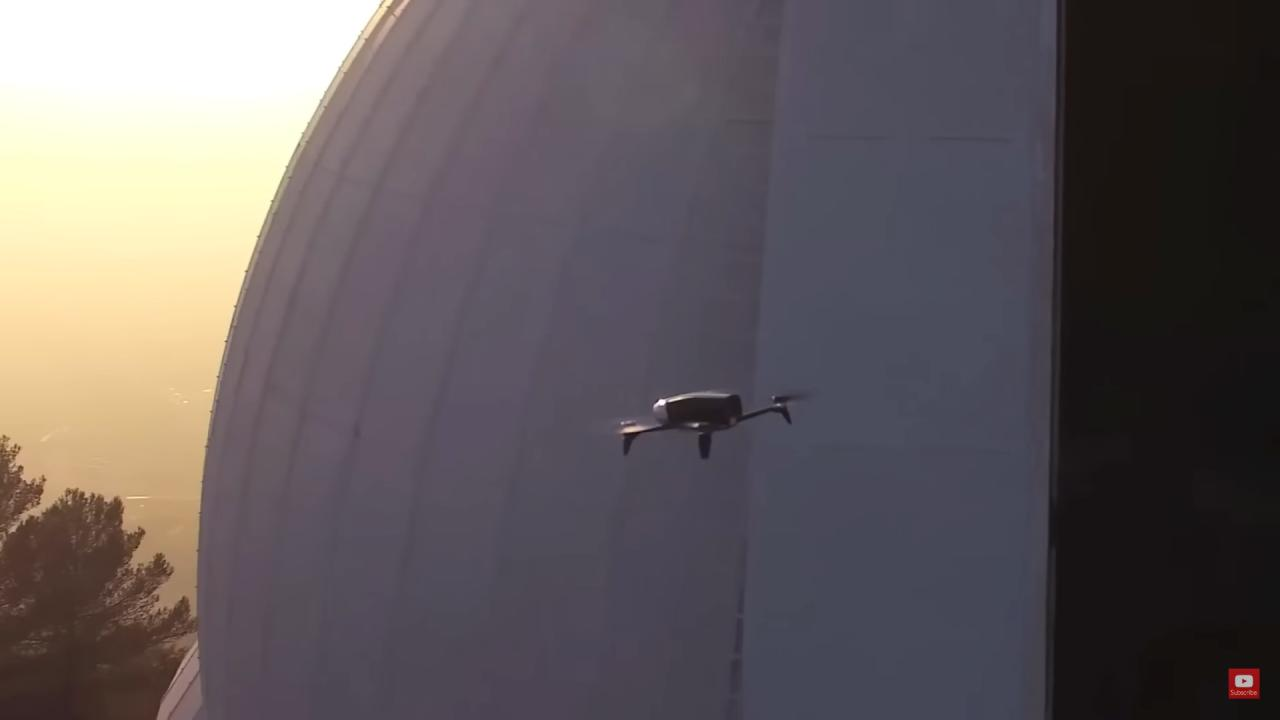Drone: (587, 378, 823, 468)
